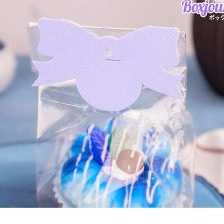snack: (19, 11, 200, 208)
